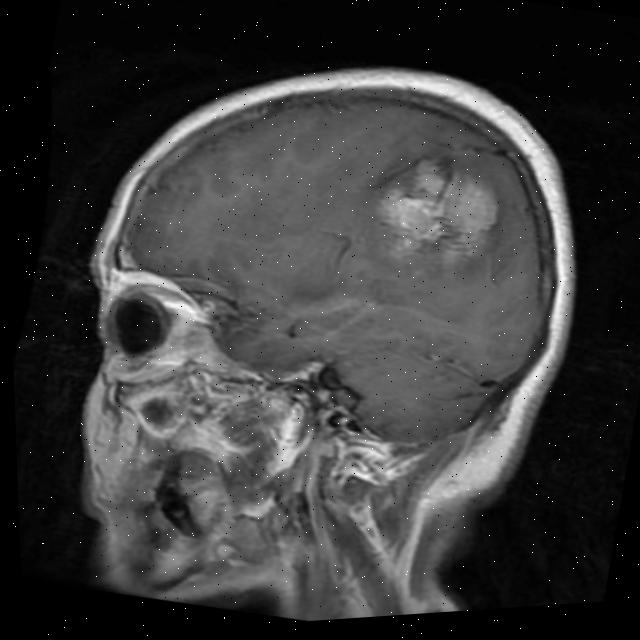Meningioma: (363, 142, 510, 281)
